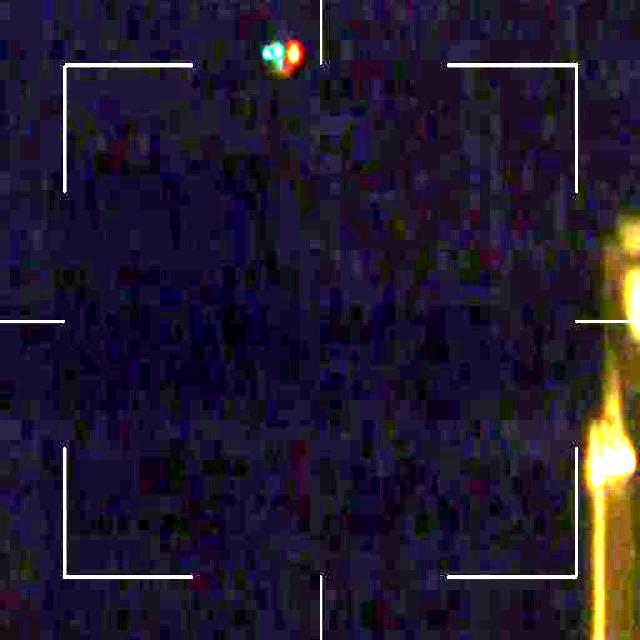bird: (268, 40, 301, 80)
